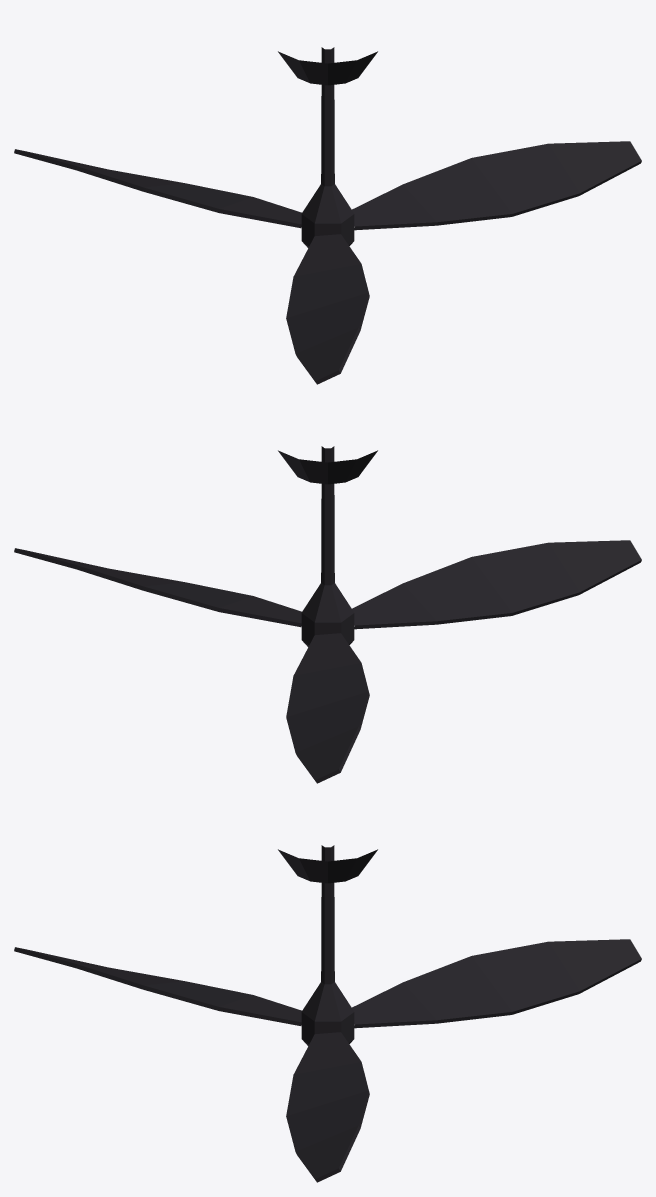
Rendered from CeilingFan.glb.
3 renders of one model, top to bottom at view 1: azimuth 30°, elevation 25°; view 2: azimuth 150°, elevation 25°; view 3: azimuth 270°, elevation 25°, orthographic.
Parts seen in each view (by area): view 1: CeilingFan; view 2: CeilingFan; view 3: CeilingFan.
Part boxes in pixels (x1,y1,x2,y2): CeilingFan: (14, 47, 641, 384); CeilingFan: (14, 446, 641, 783); CeilingFan: (14, 845, 641, 1182).
Size of the model in its own units: 1.04 by 0.4541 by 1.2.
1 material, 1 textured.
